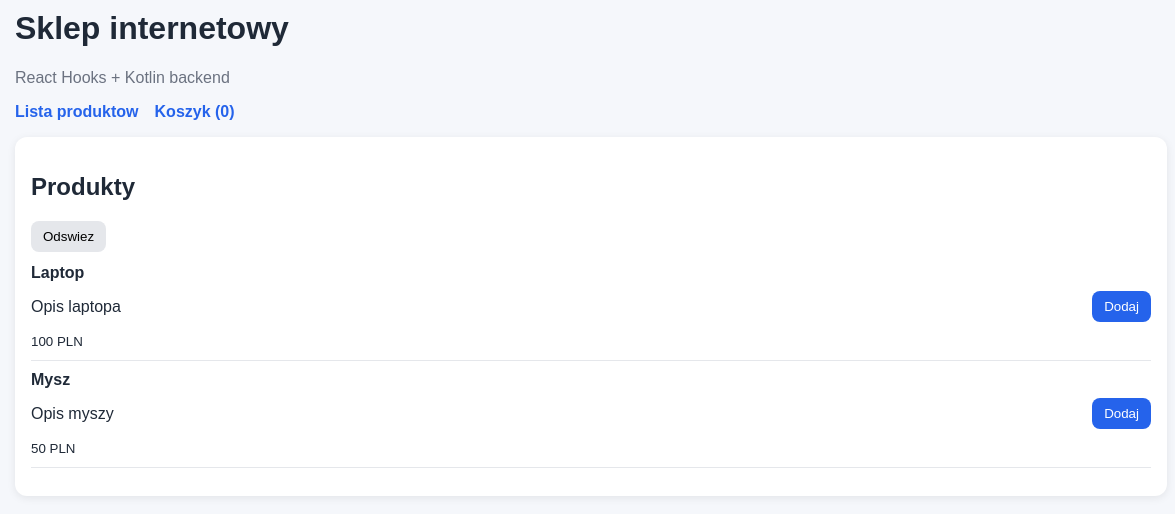
Scenario: App › wyswietla koszyk i zmienia ilosc produktow
Expected: the text "Laptop" is shown, [31,264,84,281]
Click the button "Dodaj" in the row of "Opis laptopa" at (1122, 307), box [1092,291,1151,322]
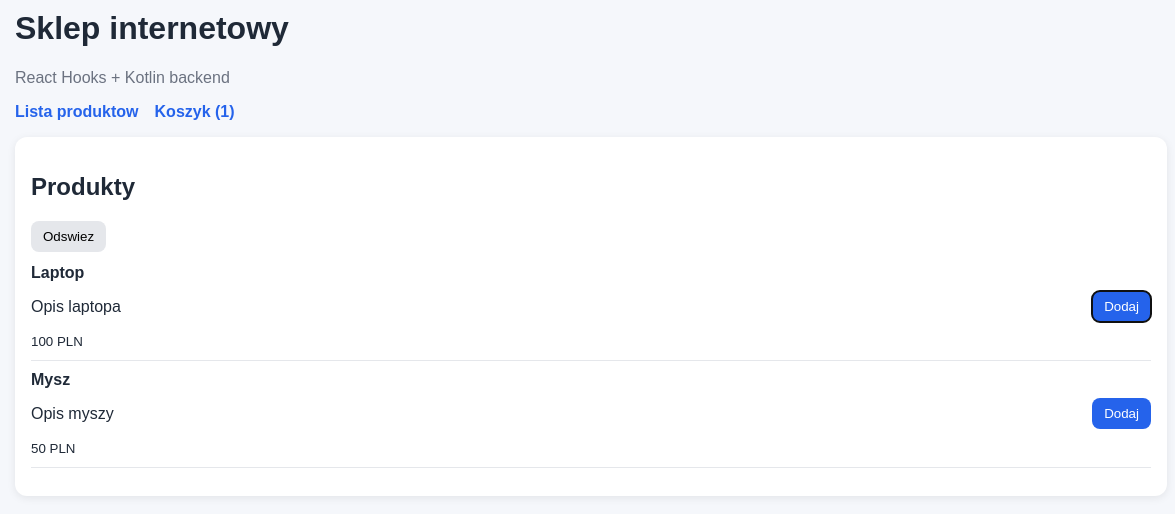
Click the link "Koszyk (1)" at (195, 112), box [155,103,235,121]
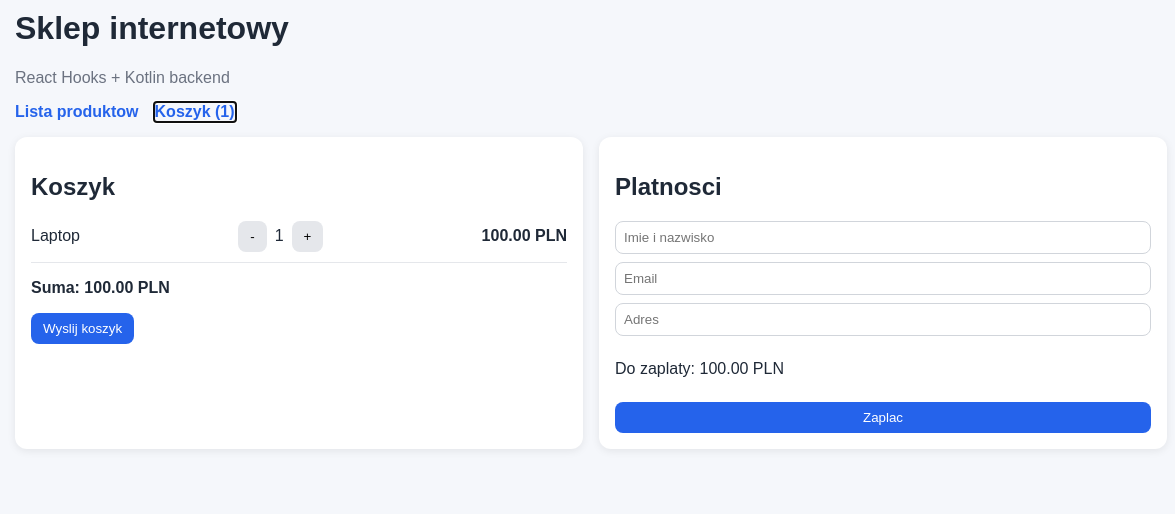
Result: the heading "Koszyk" is shown at [31,173,115,200]
Result: the heading "Platnosci" is shown at [615,173,722,200]
Result: the text "Suma: 100.00 PLN" is shown at [31,279,170,296]
Click the button "+" at (307, 236), box [292,221,323,252]
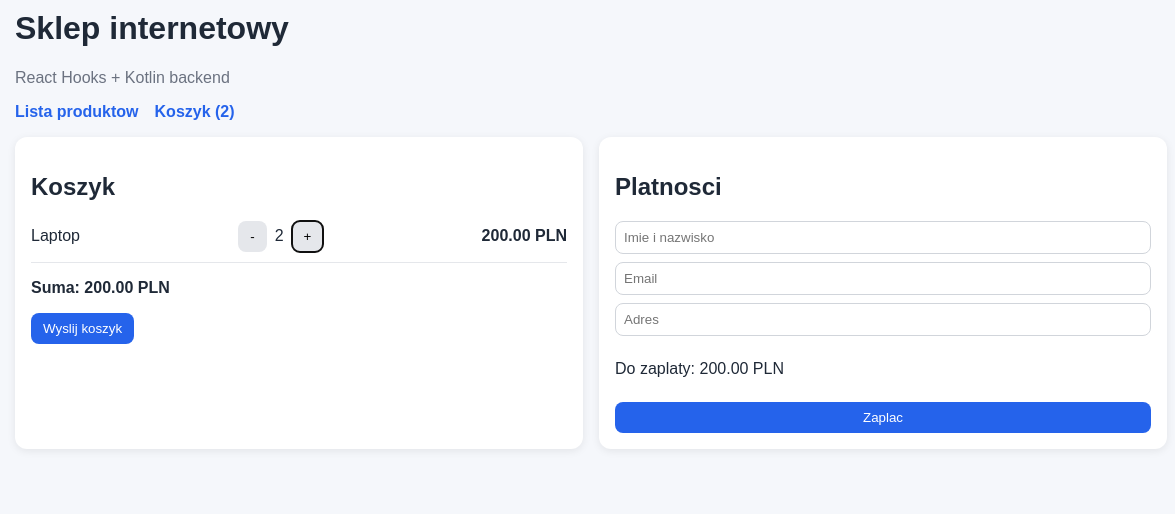
Result: the text "Suma: 200.00 PLN" is shown at [31,279,170,296]
Click the button "-" at (252, 236), box [238,221,267,252]
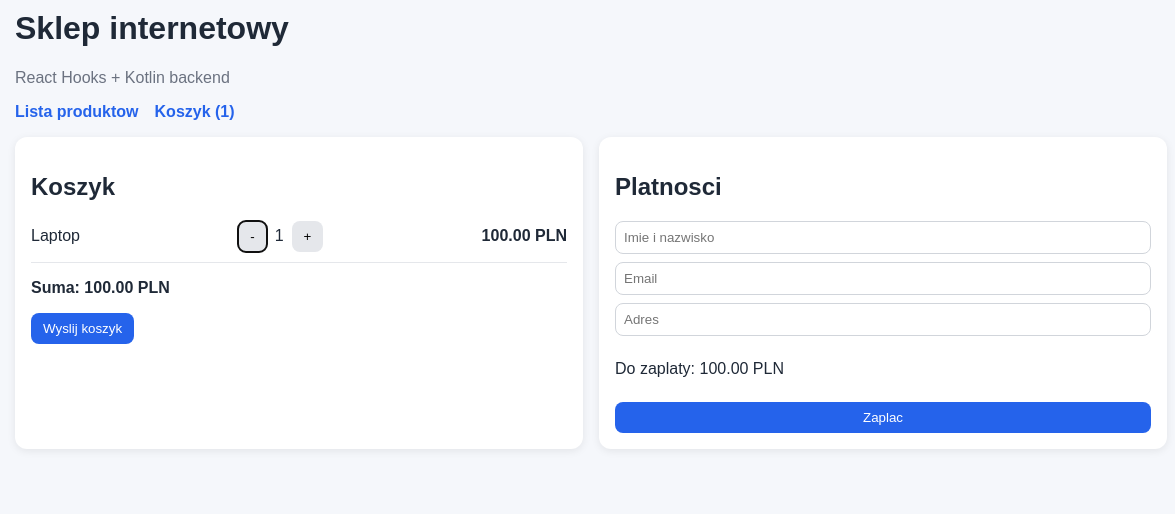
Result: the text "Suma: 100.00 PLN" is shown at [31,279,170,296]
